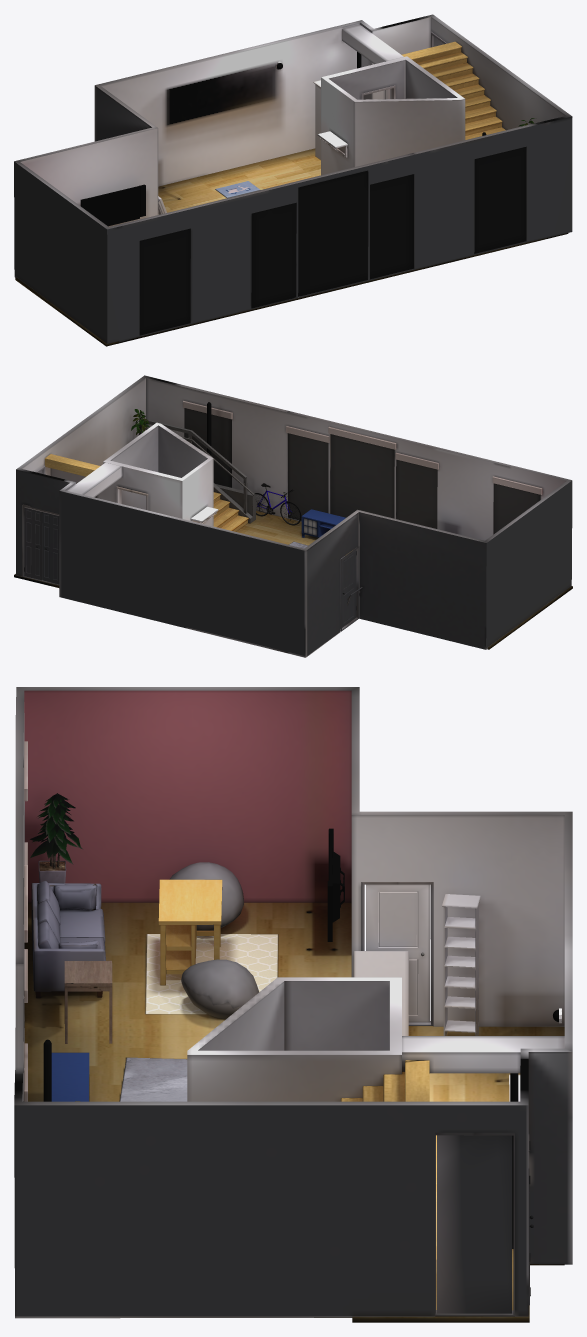
Rendered from google_pick_coke_can_1_v4_alt_background_2.glb.
3 renders of one model, top to bottom at view 1: azimuth 30°, elevation 25°; view 2: azimuth 150°, elevation 25°; view 3: azimuth 270°, elevation 25°, orthographic. The views are drawn at different scales.
Visible parts, largest first — view 1: frl_apartment_wall_arch.001, frl_apartment_blinds, frl_apartment_floor, frl_apartment_stair, frl_apartment_tv_screen, frl_apartment_wall_cabinet_02, frl_apartment_mat; view 2: frl_apartment_wall_arch.001, frl_apartment_blinds, frl_apartment_stair, frl_apartment_floor, frl_apartment_door_05, frl_apartment_door_06, frl_apartment_door_01, frl_apartment_tvstand, frl_apartment_bike_01, frl_apartment_door_part_03; view 3: frl_apartment_wall_arch.001, frl_apartment_floor, frl_apartment_door_04, frl_apartment_sofa, frl_apartment_door_01, frl_apartment_rug_01, frl_apartment_table_02, frl_apartment_wall_cabinet_01, frl_apartment_beanbag_01, frl_apartment_rug_02, frl_apartment_indoor_plant_02, frl_apartment_stair (+9 smaller).
Part boxes in pixels (x1=…): frl_apartment_wall_arch.001: x1=14, y1=14, x2=572, y2=343; frl_apartment_blinds: x1=139, y1=147, x2=525, y2=335; frl_apartment_floor: x1=15, y1=148, x2=568, y2=346; frl_apartment_stair: x1=401, y1=41, x2=505, y2=139; frl_apartment_tv_screen: x1=80, y1=184, x2=145, y2=226; frl_apartment_wall_cabinet_02: x1=313, y1=80, x2=320, y2=159; frl_apartment_mat: x1=215, y1=181, x2=259, y2=198; frl_apartment_wall_arch.001: x1=16, y1=375, x2=572, y2=657; frl_apartment_blinds: x1=183, y1=401, x2=542, y2=533; frl_apartment_stair: x1=45, y1=418, x2=255, y2=531; frl_apartment_floor: x1=14, y1=511, x2=572, y2=649; frl_apartment_door_05: x1=24, y1=507, x2=42, y2=580; frl_apartment_door_06: x1=42, y1=511, x2=59, y2=584; frl_apartment_door_01: x1=340, y1=548, x2=356, y2=628; frl_apartment_tvstand: x1=301, y1=509, x2=345, y2=537; frl_apartment_bike_01: x1=254, y1=483, x2=301, y2=525; frl_apartment_door_part_03: x1=340, y1=546, x2=359, y2=631; frl_apartment_wall_arch.001: x1=14, y1=687, x2=572, y2=1318; frl_apartment_floor: x1=24, y1=902, x2=564, y2=1322; frl_apartment_door_04: x1=436, y1=1135, x2=512, y2=1313; frl_apartment_sofa: x1=31, y1=880, x2=105, y2=998; frl_apartment_door_01: x1=366, y1=884, x2=430, y2=1022; frl_apartment_rug_01: x1=145, y1=934, x2=278, y2=1014; frl_apartment_table_02: x1=158, y1=879, x2=222, y2=985; frl_apartment_wall_cabinet_01: x1=442, y1=894, x2=480, y2=1035; frl_apartment_beanbag_01: x1=181, y1=959, x2=258, y2=1019; frl_apartment_rug_02: x1=119, y1=1057, x2=187, y2=1101; frl_apartment_indoor_plant_02: x1=30, y1=793, x2=82, y2=883; frl_apartment_stair: x1=75, y1=1060, x2=429, y2=1101.
Size of the model in its own units: 12.93 by 3.21 by 7.26.
1 material, 1 textured.
